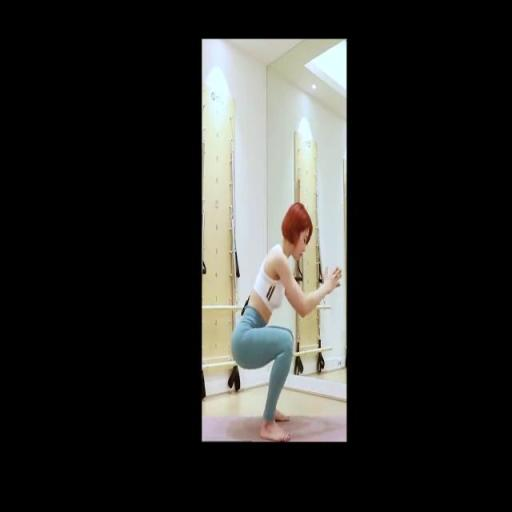Normal_BrenchPress: (228, 202, 342, 443)
